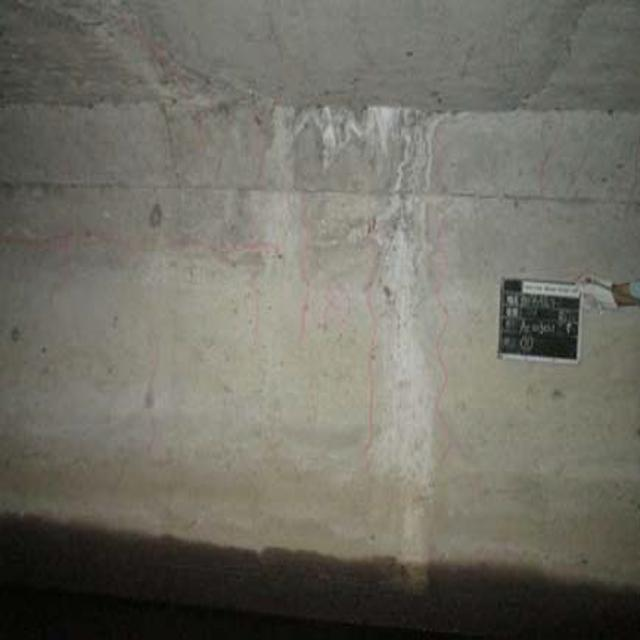freelime: (266, 93, 436, 150)
